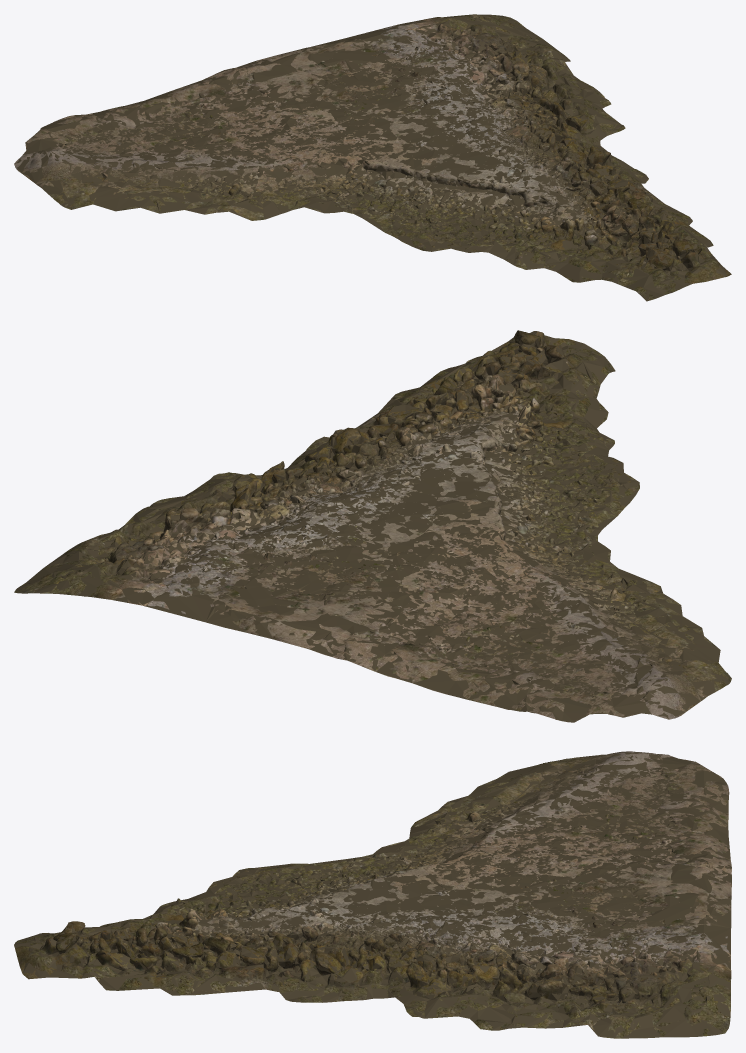
Rendered from coast_rocks_02.glb.
The picture shows the model from 3 angles, top to bottom: view 1: azimuth 30°, elevation 25°; view 2: azimuth 150°, elevation 25°; view 3: azimuth 270°, elevation 25°; orthographic projection. The views are drawn at different scales.
Parts seen in each view (by area): view 1: shadow, lod0; view 2: shadow, lod0; view 3: lod0, shadow.
Boxes of the visible parts, x1,y1,x2,y2 form: shadow: [15, 14, 727, 301]; lod0: [14, 14, 731, 301]; shadow: [16, 330, 731, 722]; lod0: [14, 330, 731, 722]; lod0: [14, 751, 731, 1038]; shadow: [14, 751, 731, 1038].
Size of what is drawn, in the model's own units: 45.97 by 3.16 by 49.46.
1 material, 1 textured.
